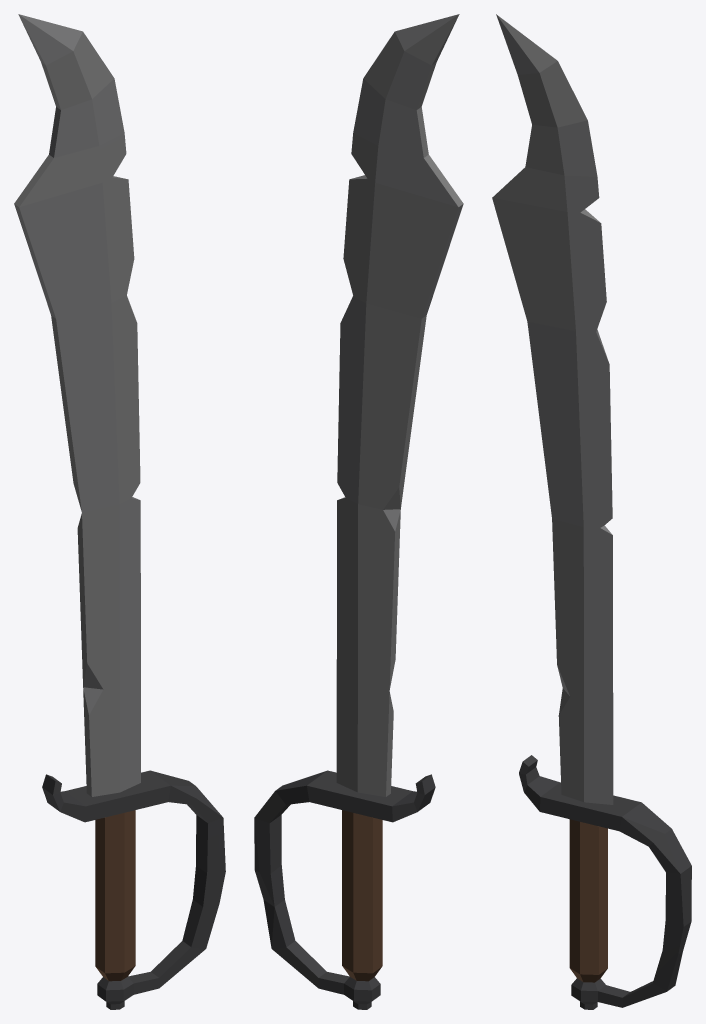
File: SM_Wep_Cutlass_05.glb
The picture shows the model from 3 angles, left to right: view 1: azimuth 30°, elevation 25°; view 2: azimuth 150°, elevation 25°; view 3: azimuth 330°, elevation 25°; orthographic projection. The views are drawn at different scales.
Parts seen in each view (by area): view 1: SM_Wep_Cutlass_05; view 2: SM_Wep_Cutlass_05; view 3: SM_Wep_Cutlass_05.
Boxes of the visible parts, left/top/right/bottom form: SM_Wep_Cutlass_05: left=14, top=14, right=225, bottom=1009; SM_Wep_Cutlass_05: left=254, top=14, right=463, bottom=1009; SM_Wep_Cutlass_05: left=492, top=14, right=691, bottom=1009.
Size of the model in its own units: 0.00252 by 0.012 by 0.000445.
